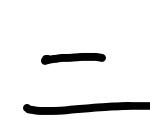eqv: (23, 51, 150, 116)
